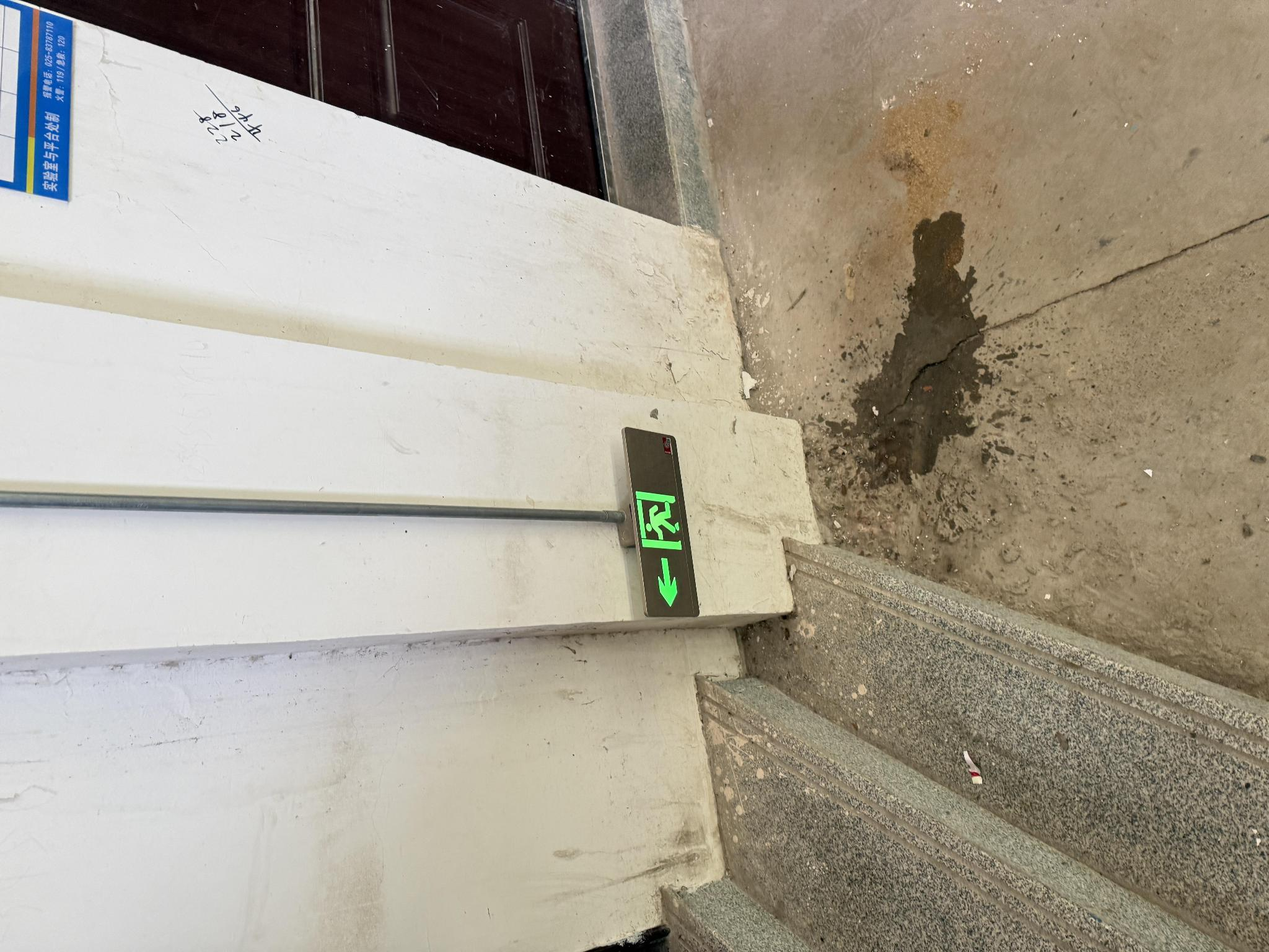water accumulation: (827, 207, 992, 490)
